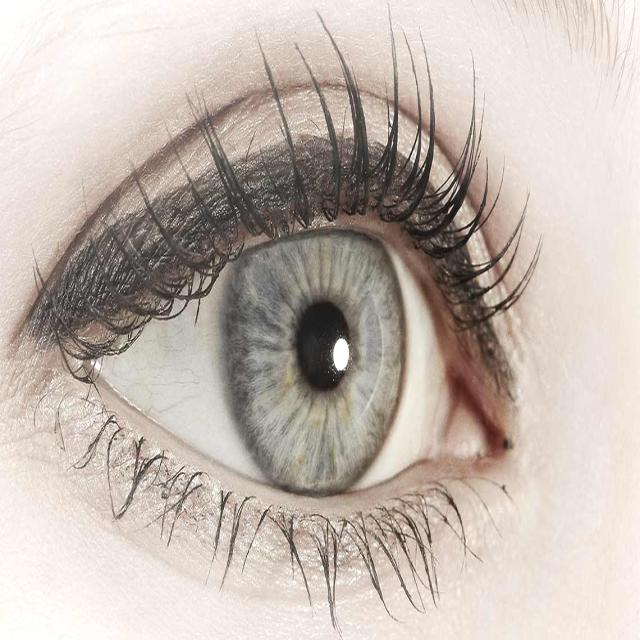Normal: (4, 21, 603, 628)
